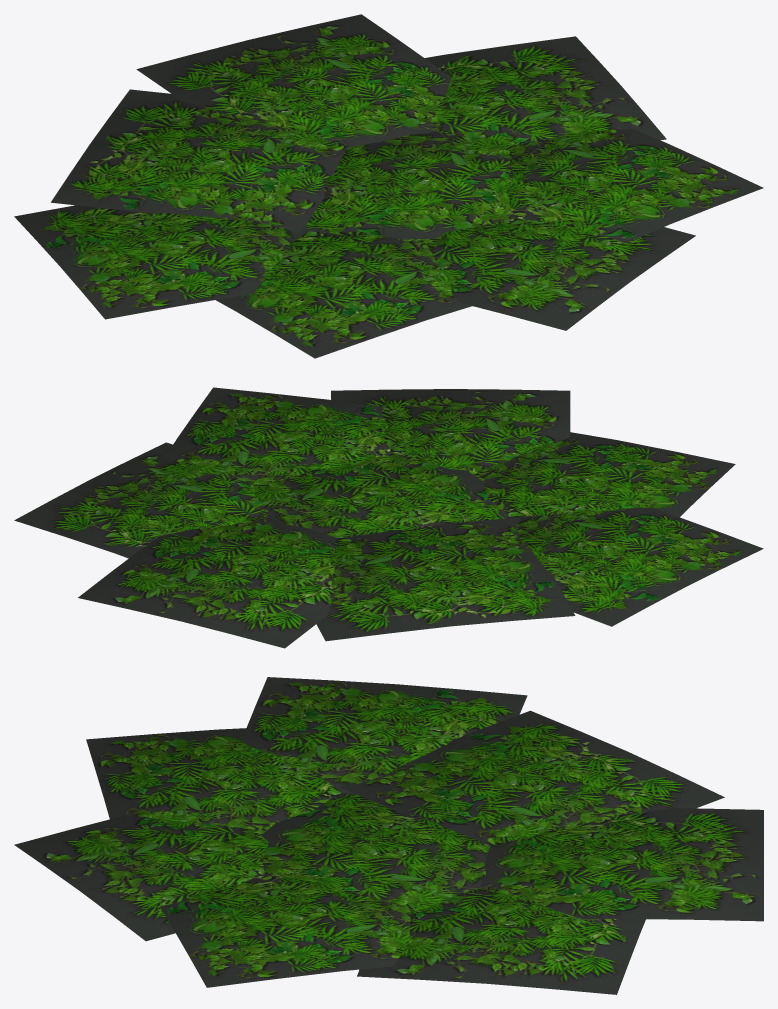
Rendered from INST_PITCOVER_BRUSH.fbx.
3 views of the same model, one above another, from view 1: azimuth 30°, elevation 25°; view 2: azimuth 150°, elevation 25°; view 3: azimuth 270°, elevation 25° (orthographic). The views are drawn at different scales.
Visible parts, largest first — view 1: INST_PITCOVER_BRUSH; view 2: INST_PITCOVER_BRUSH; view 3: INST_PITCOVER_BRUSH.
Part boxes in pixels (x1=…): INST_PITCOVER_BRUSH: x1=14, y1=14, x2=763, y2=358; INST_PITCOVER_BRUSH: x1=14, y1=387, x2=763, y2=648; INST_PITCOVER_BRUSH: x1=14, y1=677, x2=763, y2=994.
Bounding box in the file's own units: 136879 × 2877 × 136473.
1 material, 1 textured.
